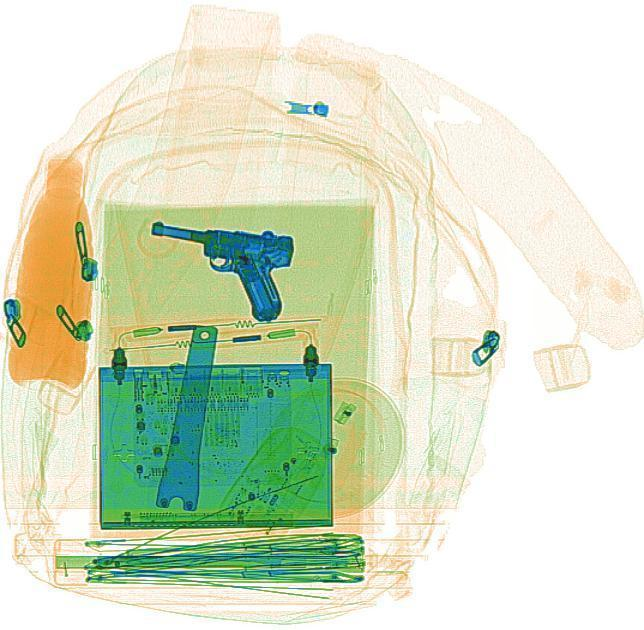Gun: (138, 212, 298, 323)
